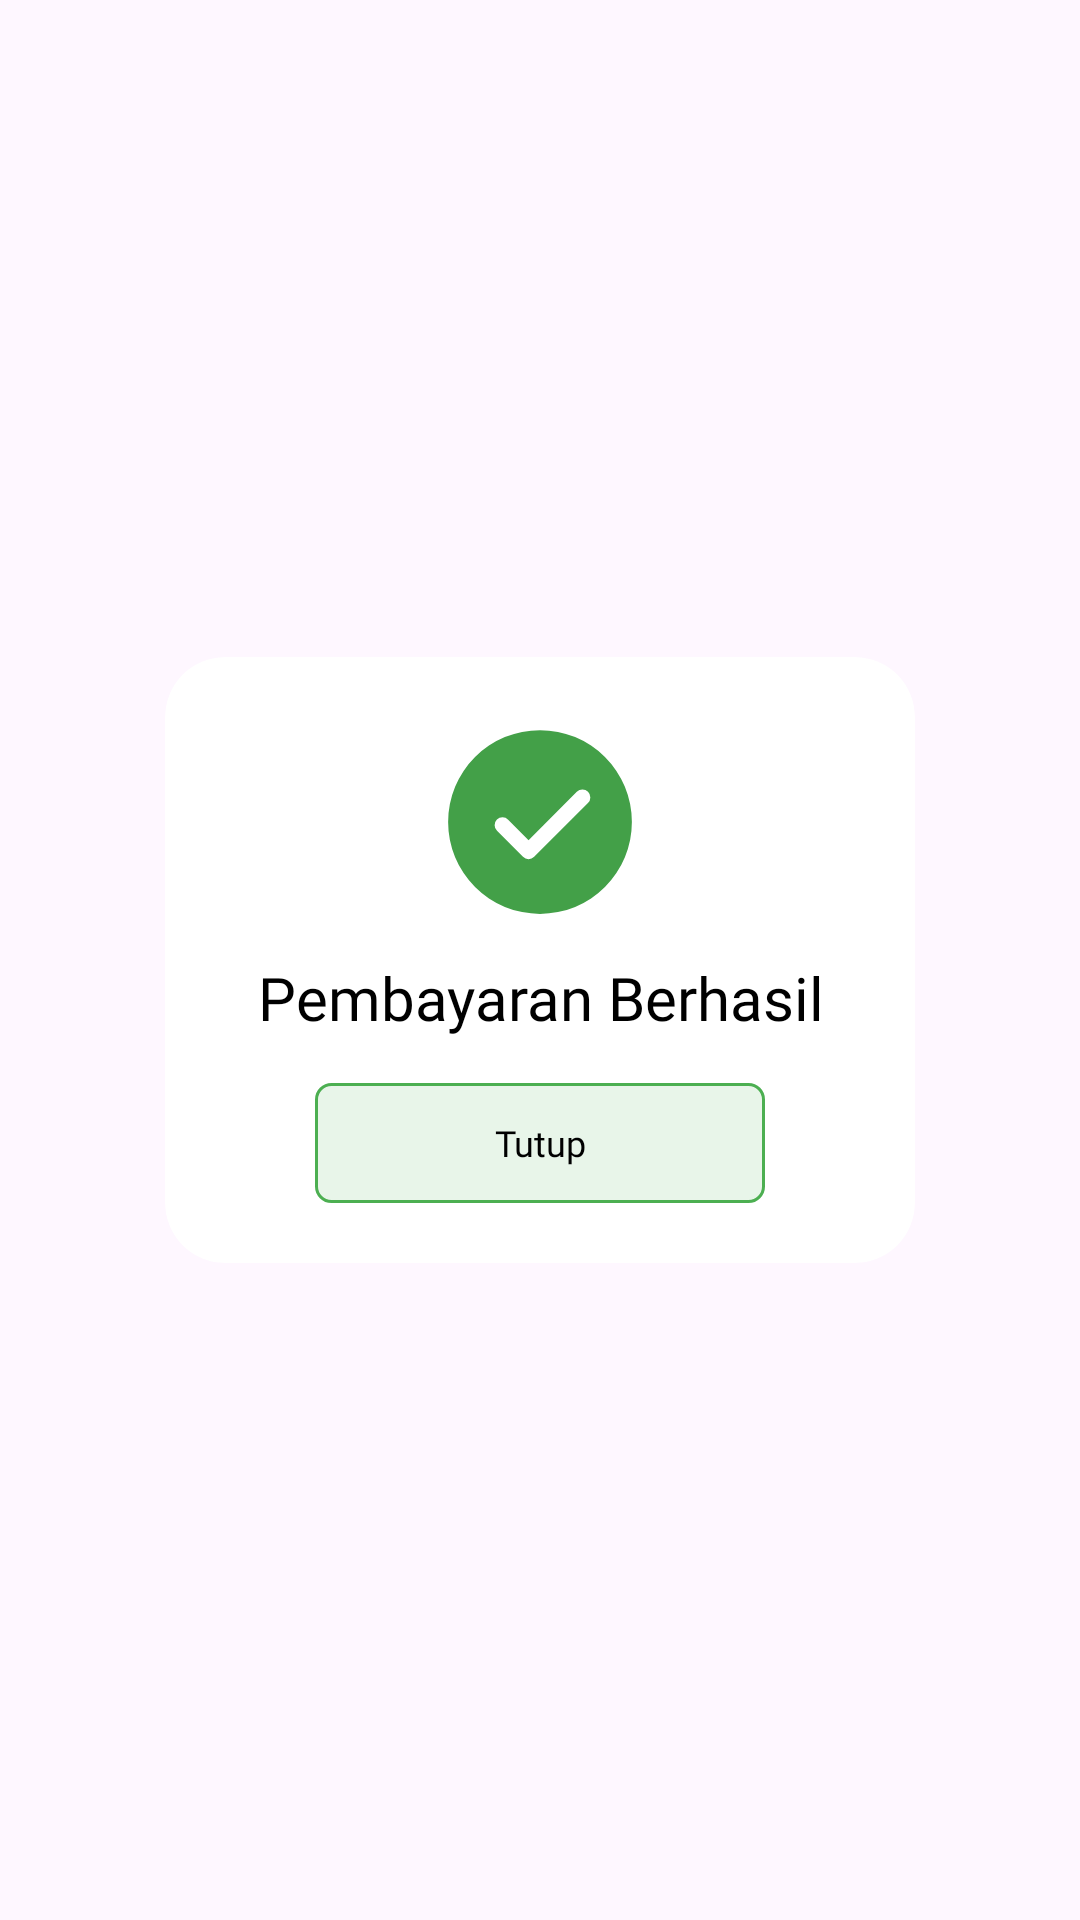

Icons on this 1080px x 1920px Android screen, each with its box as {"x1": x1, "y1": y1, "x2": x2, "y2": y2}:
success: {"x1": 448, "y1": 730, "x2": 632, "y2": 914}
